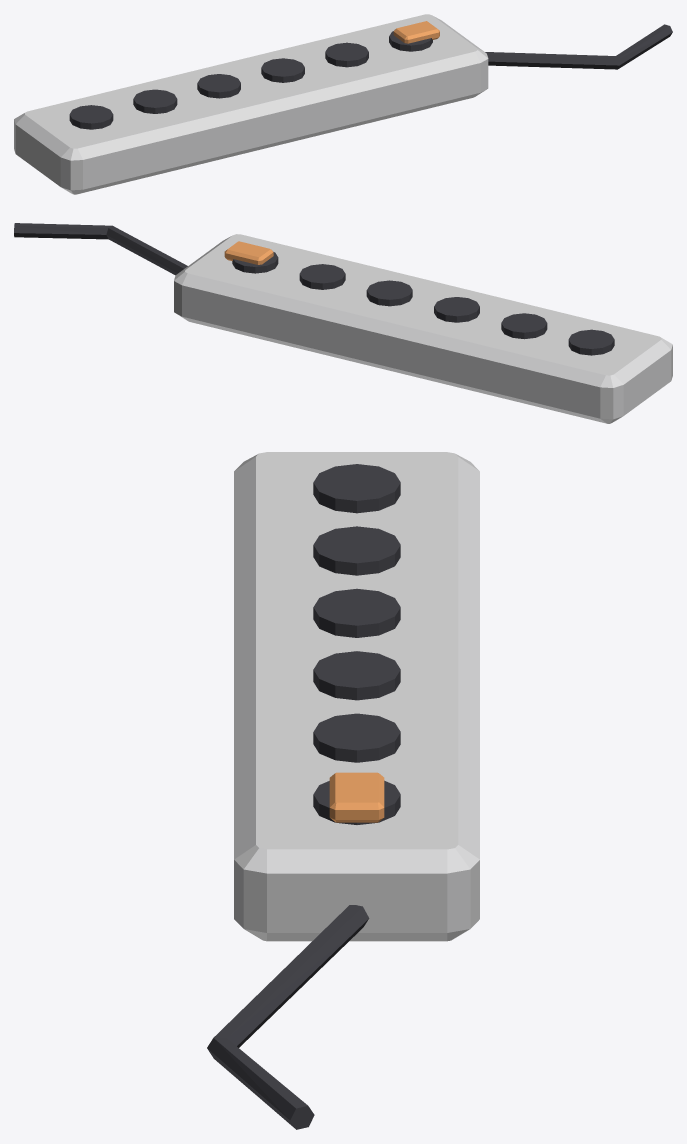
The model's file is computers-and-desk-gadgets-power-strip-6-ddf19646__38871.glb.
The picture shows the model from 3 angles, top to bottom: view 1: azimuth 30°, elevation 25°; view 2: azimuth 150°, elevation 25°; view 3: azimuth 270°, elevation 25°; orthographic projection. The views are drawn at different scales.
Visible parts, largest first — view 1: power-strip-6; view 2: power-strip-6; view 3: power-strip-6.
Boxes of the visible parts, left/top/right/bottom form: power-strip-6: left=14, top=14, right=672, bottom=194; power-strip-6: left=14, top=223, right=672, bottom=423; power-strip-6: left=207, top=452, right=479, bottom=1129.
Size of the model in its own units: 0.5222 by 0.048 by 0.1.
